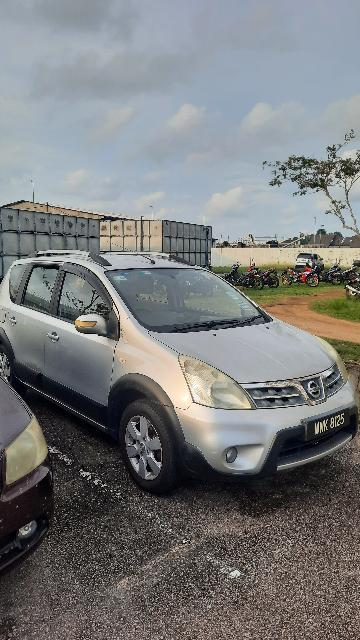License_Plate: (305, 408, 355, 443)
car: (1, 252, 355, 493)
